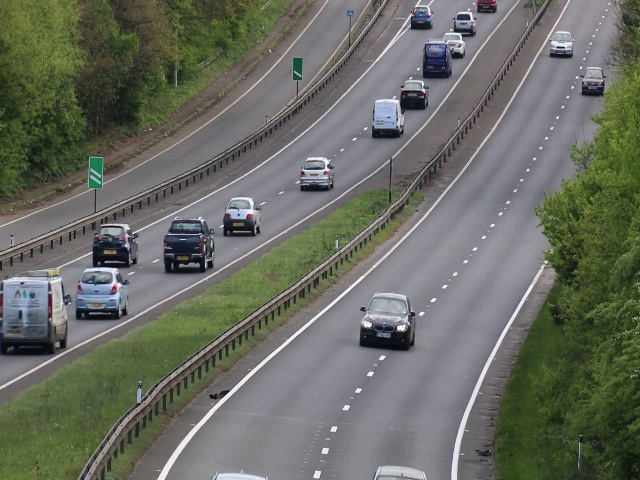car: (1, 272, 70, 358), (354, 290, 418, 349), (161, 216, 216, 271), (76, 267, 131, 320), (89, 220, 140, 265), (223, 196, 262, 236), (369, 97, 405, 138), (298, 154, 335, 191), (421, 39, 454, 79), (401, 77, 429, 110), (548, 30, 573, 58), (580, 64, 603, 93), (452, 9, 477, 35), (408, 5, 434, 29), (443, 31, 466, 51)
